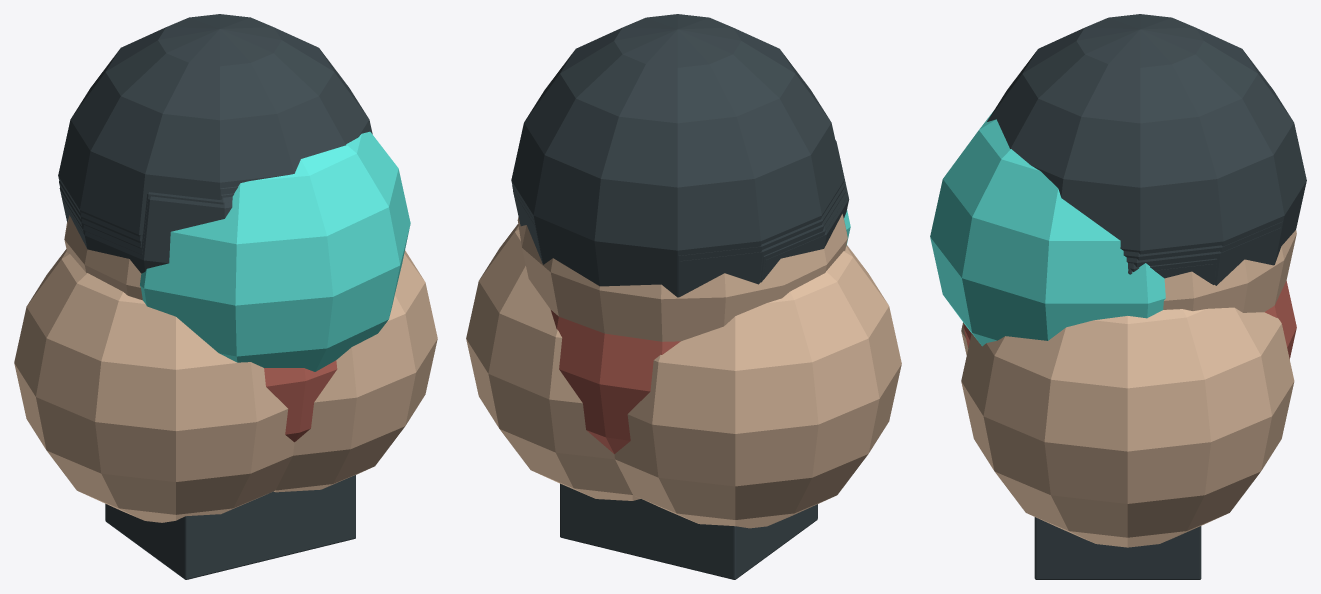
File: Lio_Jury.fbx
3 renders of one model, left to right at view 1: azimuth 30°, elevation 25°; view 2: azimuth 150°, elevation 25°; view 3: azimuth 270°, elevation 25°, orthographic. The views are drawn at different scales.
Visible parts, largest first — view 1: RightHandMesh, Hair_4, IntentEye, LeftHandMesh, RightFootMesh, LeftFootMesh, Hair_0, Coat, HeadMesh, Hair_1, Hair_3, Hair_2; view 2: Hair_4, RightHandMesh, LeftHandMesh, HeadMesh, Coat, LeftFootMesh, RightFootMesh, Hair_2, Hair_3, Hair_0, Hair_1; view 3: LeftHandMesh, Hair_4, IntentEye, LeftFootMesh, HeadMesh, Hair_2, Hair_3, Coat, Hair_0, Hair_1.
Boxes of the visible parts, bbox=[...] form: RightHandMesh: bbox=[14, 249, 294, 522]; Hair_4: bbox=[58, 14, 372, 236]; IntentEye: bbox=[140, 131, 410, 371]; LeftHandMesh: bbox=[273, 250, 437, 492]; RightFootMesh: bbox=[105, 491, 322, 579]; LeftFootMesh: bbox=[218, 475, 355, 572]; Hair_0: bbox=[63, 196, 232, 273]; Coat: bbox=[264, 360, 337, 442]; HeadMesh: bbox=[64, 215, 142, 300]; Hair_1: bbox=[61, 192, 232, 254]; Hair_3: bbox=[59, 180, 238, 242]; Hair_2: bbox=[59, 187, 234, 248]; Hair_4: bbox=[511, 14, 844, 297]; RightHandMesh: bbox=[614, 245, 901, 528]; LeftHandMesh: bbox=[466, 224, 640, 500]; HeadMesh: bbox=[517, 214, 847, 341]; Coat: bbox=[551, 310, 680, 453]; LeftFootMesh: bbox=[560, 483, 701, 571]; RightFootMesh: bbox=[593, 504, 817, 579]; Hair_2: bbox=[513, 187, 845, 296]; Hair_3: bbox=[512, 181, 844, 297]; Hair_0: bbox=[763, 140, 849, 279]; Hair_1: bbox=[760, 182, 847, 282]; LeftHandMesh: bbox=[961, 307, 1294, 547]; Hair_4: bbox=[987, 14, 1306, 264]; IntentEye: bbox=[930, 111, 1165, 346]; LeftFootMesh: bbox=[1034, 517, 1201, 579]; HeadMesh: bbox=[1163, 230, 1296, 312]; Hair_2: bbox=[1126, 227, 1280, 285]; Hair_3: bbox=[1123, 221, 1282, 264]; Coat: bbox=[963, 281, 1296, 359]; Hair_0: bbox=[1128, 264, 1213, 283]; Hair_1: bbox=[1128, 258, 1217, 284].
Size of the model in its own units: 2.71 by 3.37 by 2.26.
